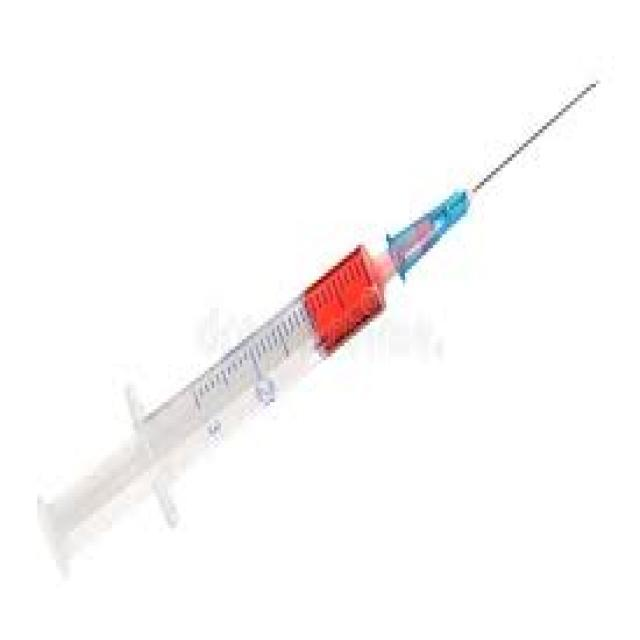syringe: (92, 71, 616, 600)
